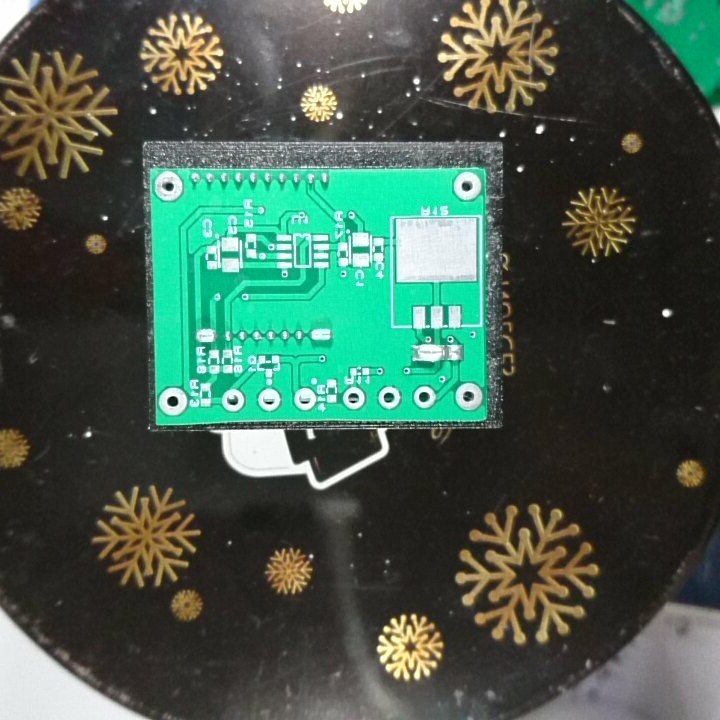F: (151, 169, 185, 203), (450, 170, 482, 203), (157, 384, 188, 416), (454, 381, 483, 413), (375, 383, 403, 411), (219, 386, 247, 412), (411, 383, 438, 409), (340, 385, 366, 412), (255, 386, 282, 412), (292, 386, 317, 412)
P: (411, 343, 445, 364), (191, 326, 218, 345), (308, 326, 334, 344)
